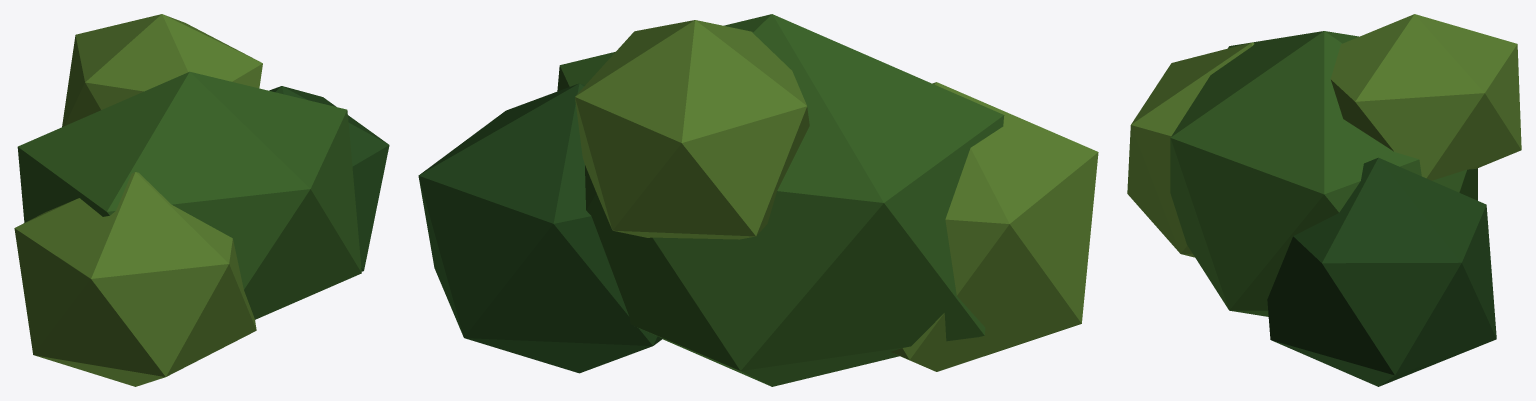
The model's file is arbusto.glb.
3 renders of one model, left to right at view 1: azimuth 30°, elevation 25°; view 2: azimuth 150°, elevation 25°; view 3: azimuth 270°, elevation 25°, orthographic. The views are drawn at different scales.
Visible parts, largest first — view 1: arbusto; view 2: arbusto; view 3: arbusto.
Boxes of the visible parts, x1,y1,x2,y2 form: arbusto: [14, 14, 389, 386]; arbusto: [418, 14, 1098, 386]; arbusto: [1127, 14, 1521, 386].
Bounding box in the file's own units: 2.79 × 1.95 × 2.18.
